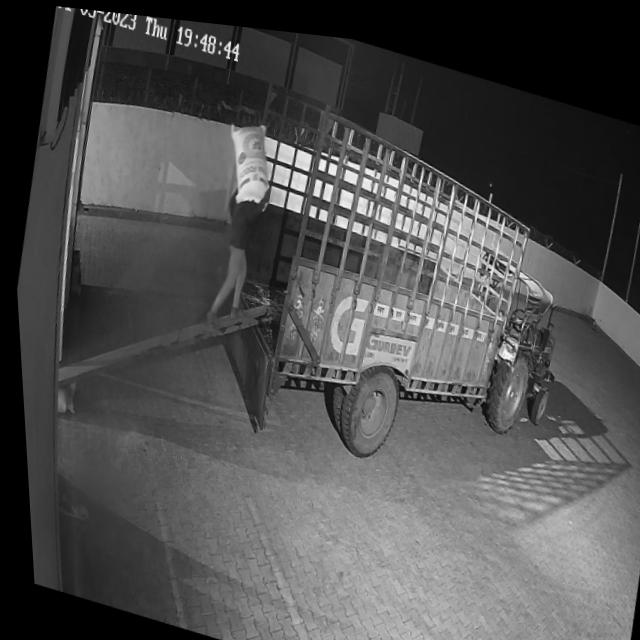sack: (215, 105, 278, 207)
